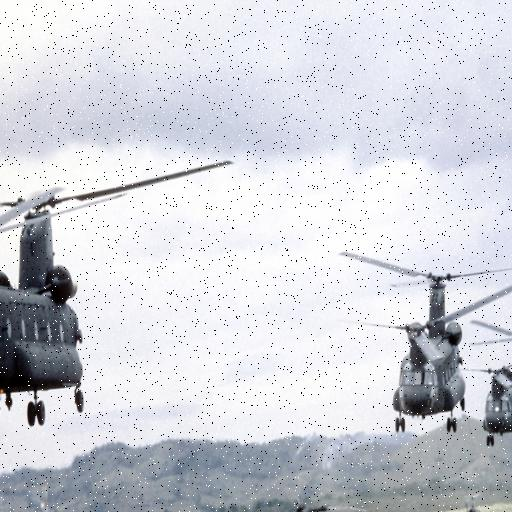helicopter: (1, 162, 236, 431), (342, 247, 512, 430), (478, 319, 512, 426), (280, 498, 383, 512), (454, 497, 490, 512)
